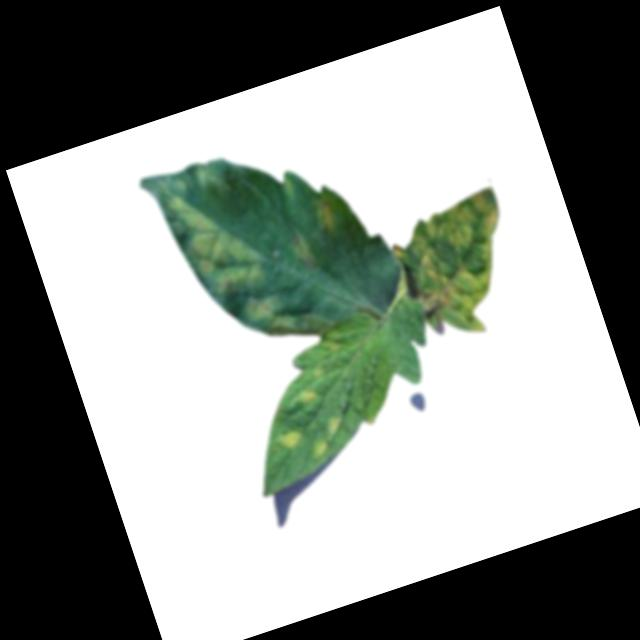Leaf_Mold: (168, 167, 304, 359), (385, 186, 538, 352), (303, 412, 351, 461), (311, 193, 340, 237), (277, 424, 304, 451), (297, 382, 323, 407)
